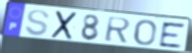8: (81, 14, 102, 42)
E: (158, 21, 186, 49)
O: (133, 19, 158, 46)
R: (103, 16, 132, 44)
S: (24, 9, 51, 37)
X: (49, 10, 79, 41)
